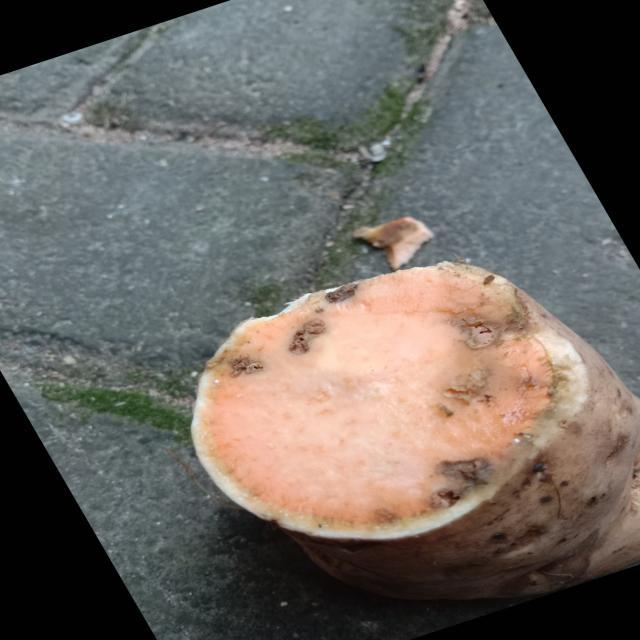Sick Sweet Potato_Tuber Rot: (193, 262, 588, 539)
